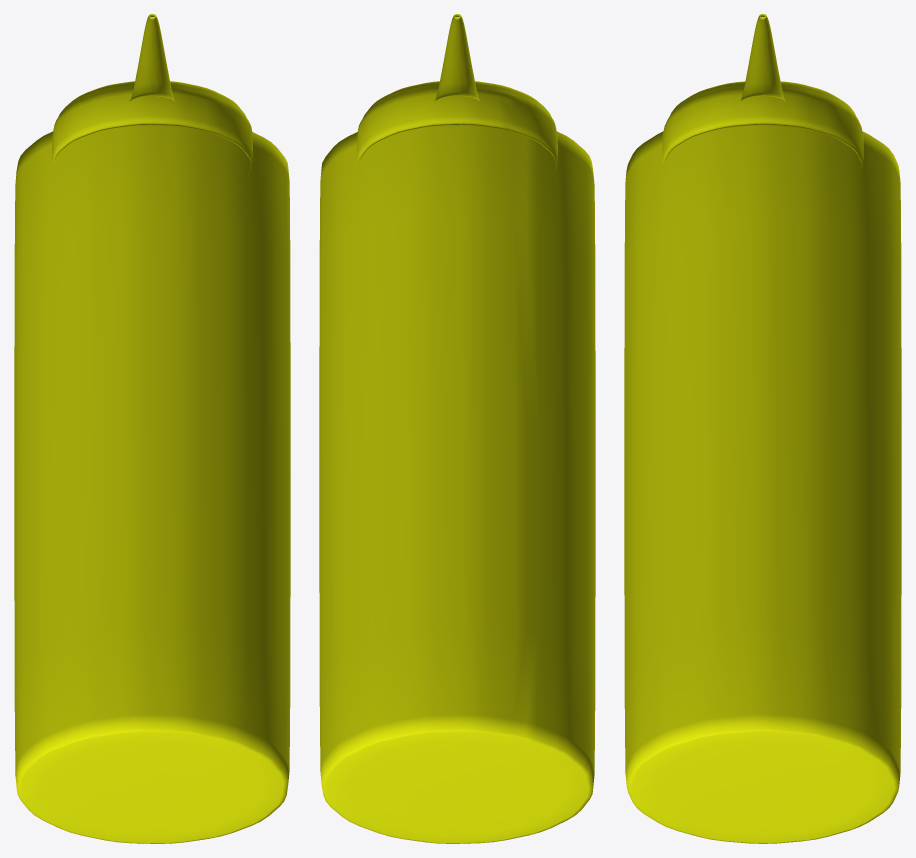
File: food_sauce_mustard.glb
3 renders of one model, left to right at view 1: azimuth 30°, elevation 25°; view 2: azimuth 150°, elevation 25°; view 3: azimuth 270°, elevation 25°, orthographic.
Visible parts, largest first — view 1: food_sauce_mustard; view 2: food_sauce_mustard; view 3: food_sauce_mustard.
Part boxes in pixels (x1,y1,x2,y2): food_sauce_mustard: (14,14,290,843); food_sauce_mustard: (319,14,595,843); food_sauce_mustard: (624,14,901,843).
Bounding box in the file's own units: 32.53 × 100 × 32.53.
